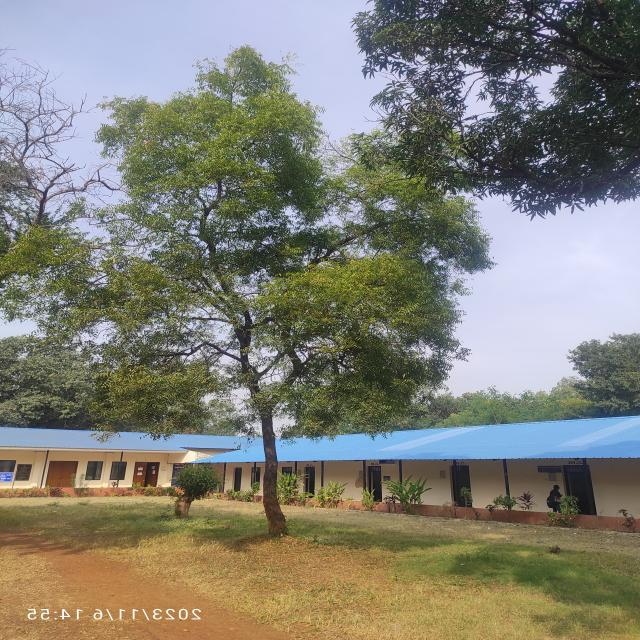Mango Tree: (440, 11, 624, 135)
Neem Tree: (115, 113, 401, 514)
